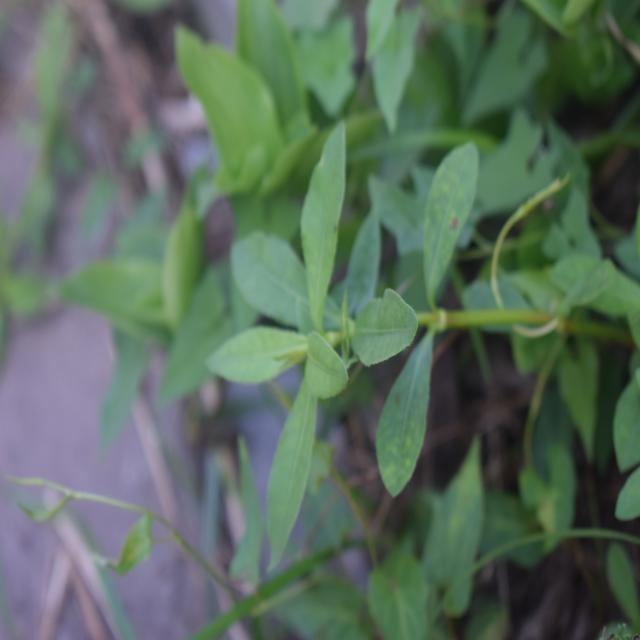Alligatorweed: (215, 129, 514, 573)
